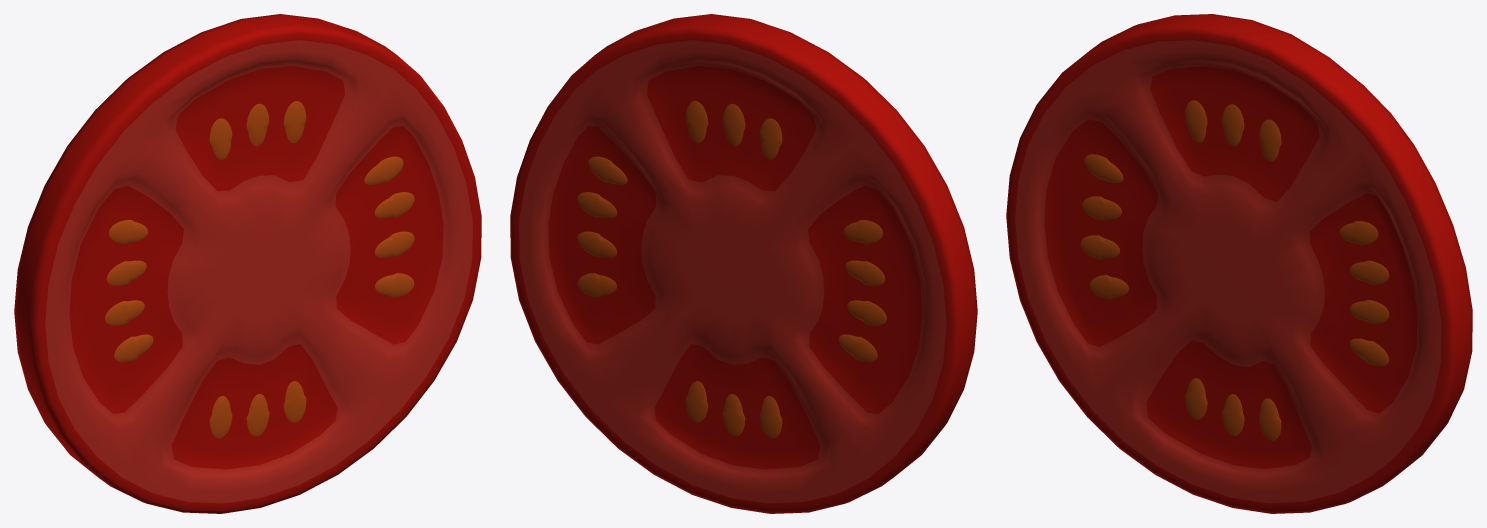
Rendered from Tomato.FBX.
3 views of the same model, side by side, from view 1: azimuth 30°, elevation 25°; view 2: azimuth 150°, elevation 25°; view 3: azimuth 330°, elevation 25° (orthographic).
Parts seen in each view (by area): view 1: Tomato; view 2: Tomato; view 3: Tomato.
Boxes of the visible parts, <box> form: Tomato: <box>14,14,481,513</box>; Tomato: <box>510,14,977,513</box>; Tomato: <box>1006,14,1472,513</box>.
Size of the model in its own units: 31.1 by 31.49 by 2.65.
